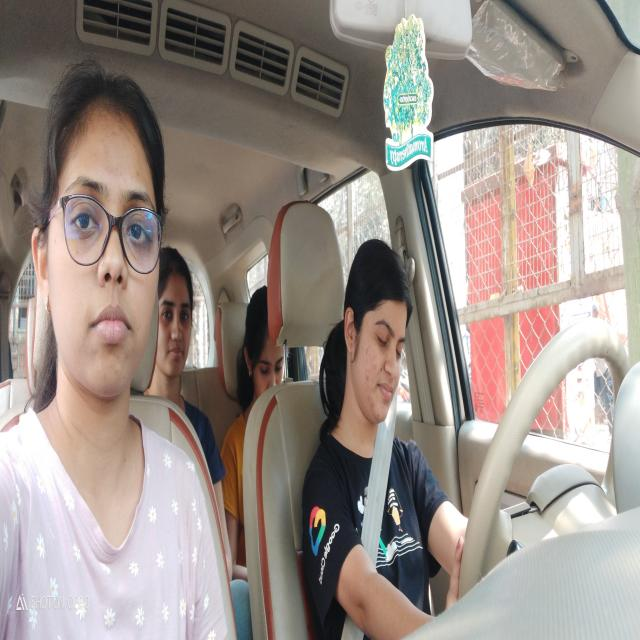drowsy: (339, 239, 411, 430)
person: (32, 68, 164, 419), (240, 291, 288, 409), (156, 250, 198, 377)
